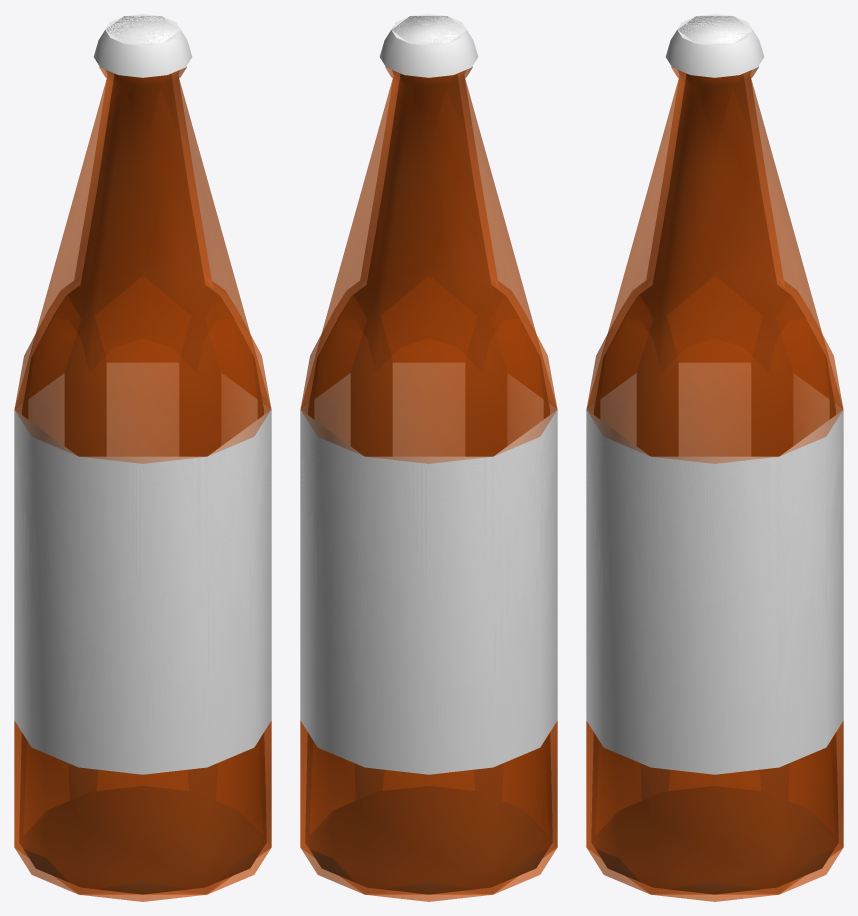
File: BeerBottle 1.glb
3 views of the same model, side by side, from view 1: azimuth 30°, elevation 25°; view 2: azimuth 150°, elevation 25°; view 3: azimuth 270°, elevation 25° (orthographic).
Parts seen in each view (by area): view 1: Circle.019, Circle.027, Circle.020; view 2: Circle.019, Circle.027, Circle.020; view 3: Circle.019, Circle.027, Circle.020.
Boxes of the visible parts, x1,y1,x2,y2 form: Circle.019: (14, 14, 271, 901); Circle.027: (14, 16, 271, 894); Circle.020: (19, 74, 266, 894); Circle.019: (300, 14, 557, 901); Circle.027: (300, 16, 557, 894); Circle.020: (305, 74, 552, 894); Circle.019: (586, 14, 843, 901); Circle.027: (586, 16, 843, 894); Circle.020: (591, 74, 838, 894).
Size of the model in its own units: 0.0785 by 0.2754 by 0.0785.
4 materials, 1 textured.
